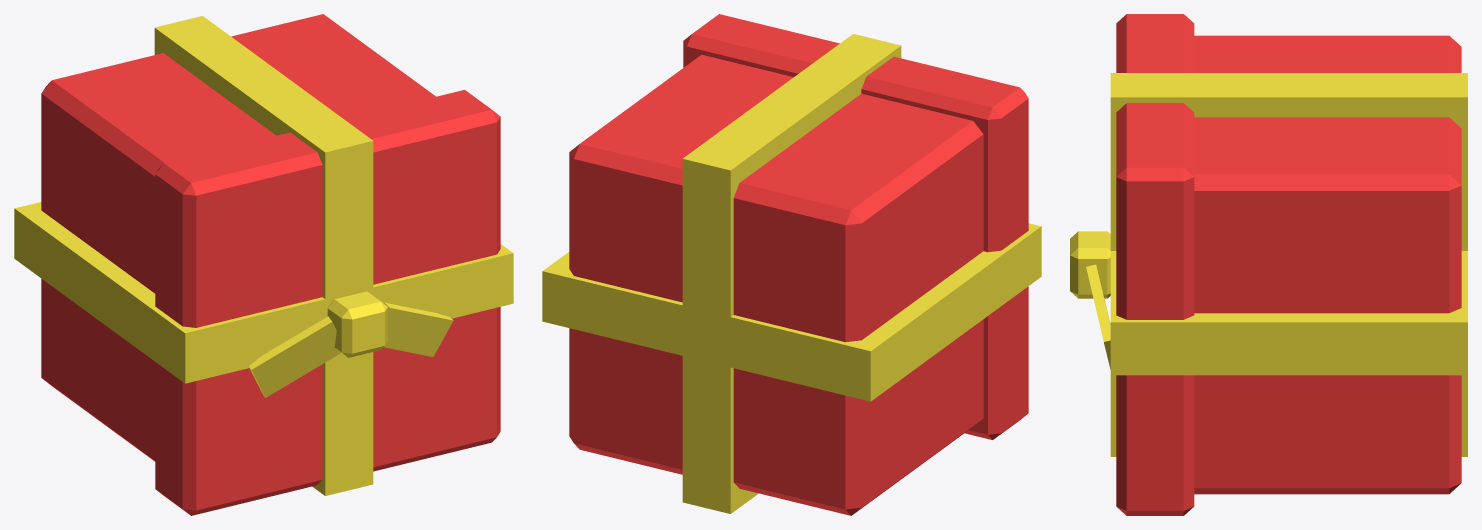
3 views of the same model, side by side, from view 1: azimuth 30°, elevation 25°; view 2: azimuth 150°, elevation 25°; view 3: azimuth 270°, elevation 25° (orthographic). The views are drawn at different scales.
Parts seen in each view (by area): view 1: PresentBox; view 2: PresentBox; view 3: PresentBox.
Boxes of the visible parts, <box> form: PresentBox: <box>14,14,513,515</box>; PresentBox: <box>542,14,1041,515</box>; PresentBox: <box>1070,14,1467,515</box>.
Bounding box in the file's own units: 0.382 × 0.382 × 0.383.
